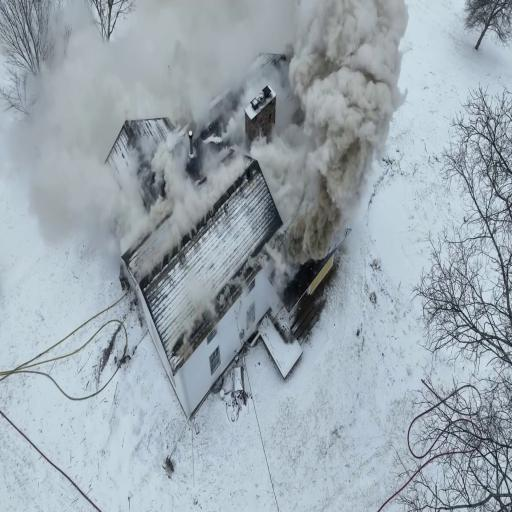smoke: (293, 12, 396, 154), (280, 160, 350, 262)
